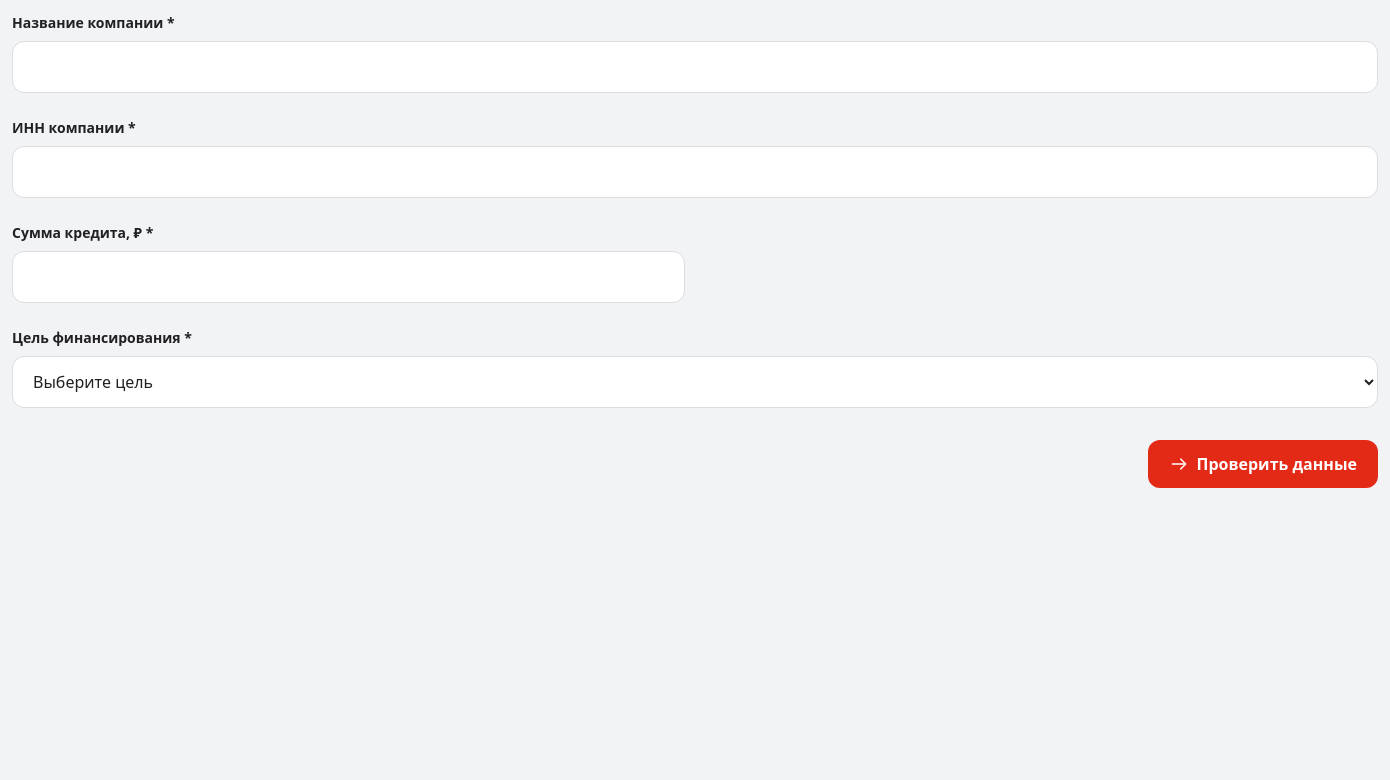
Test: Credit request form › focuses the first invalid field and does not open confirmation
In the field labelled "Название компании": (695, 67) 12,41 -> 1378,93, type "ООО «Маяк»"
In the field labelled "ИНН компании": (695, 172) 12,146 -> 1378,198, type "0000000000"
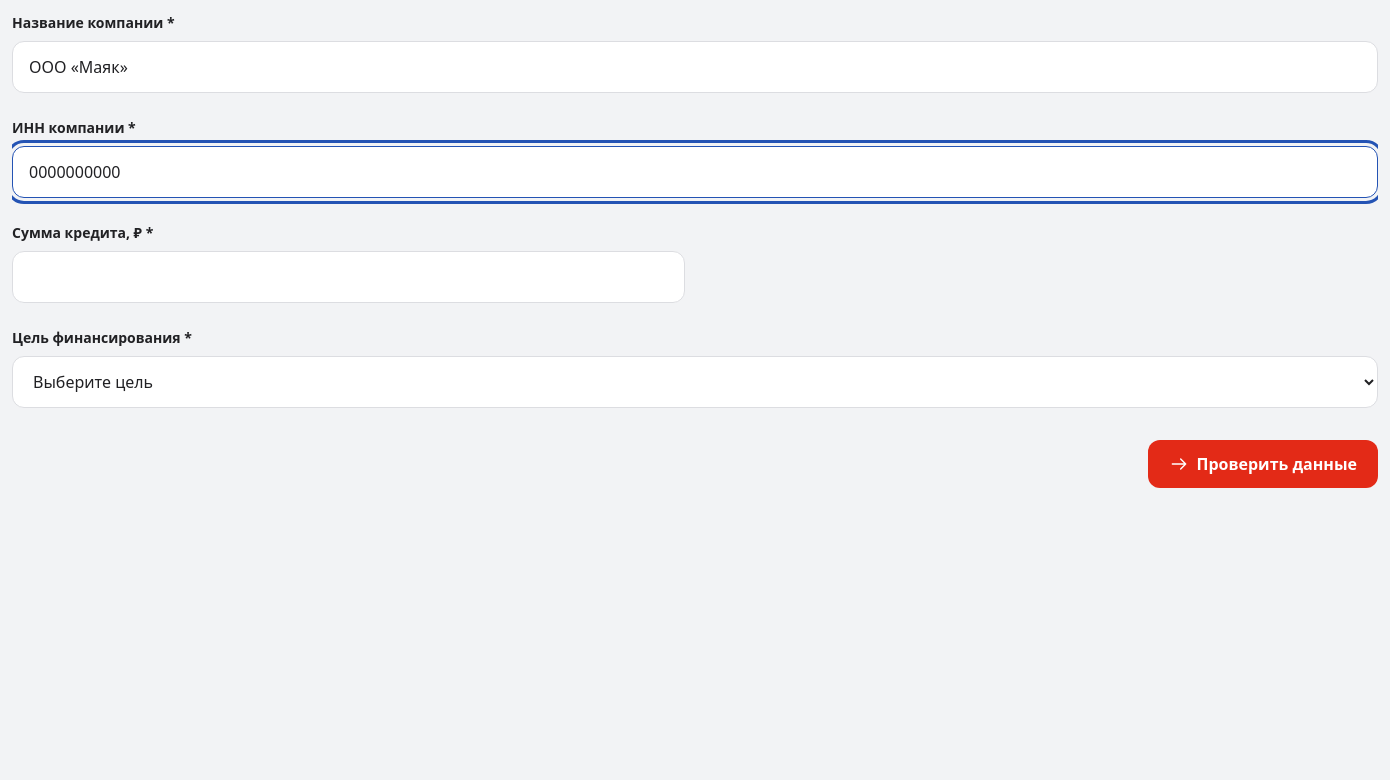
In the field labelled "Сумма кредита, ₽": (348, 277) 12,251 -> 685,303, type "1 500 000"
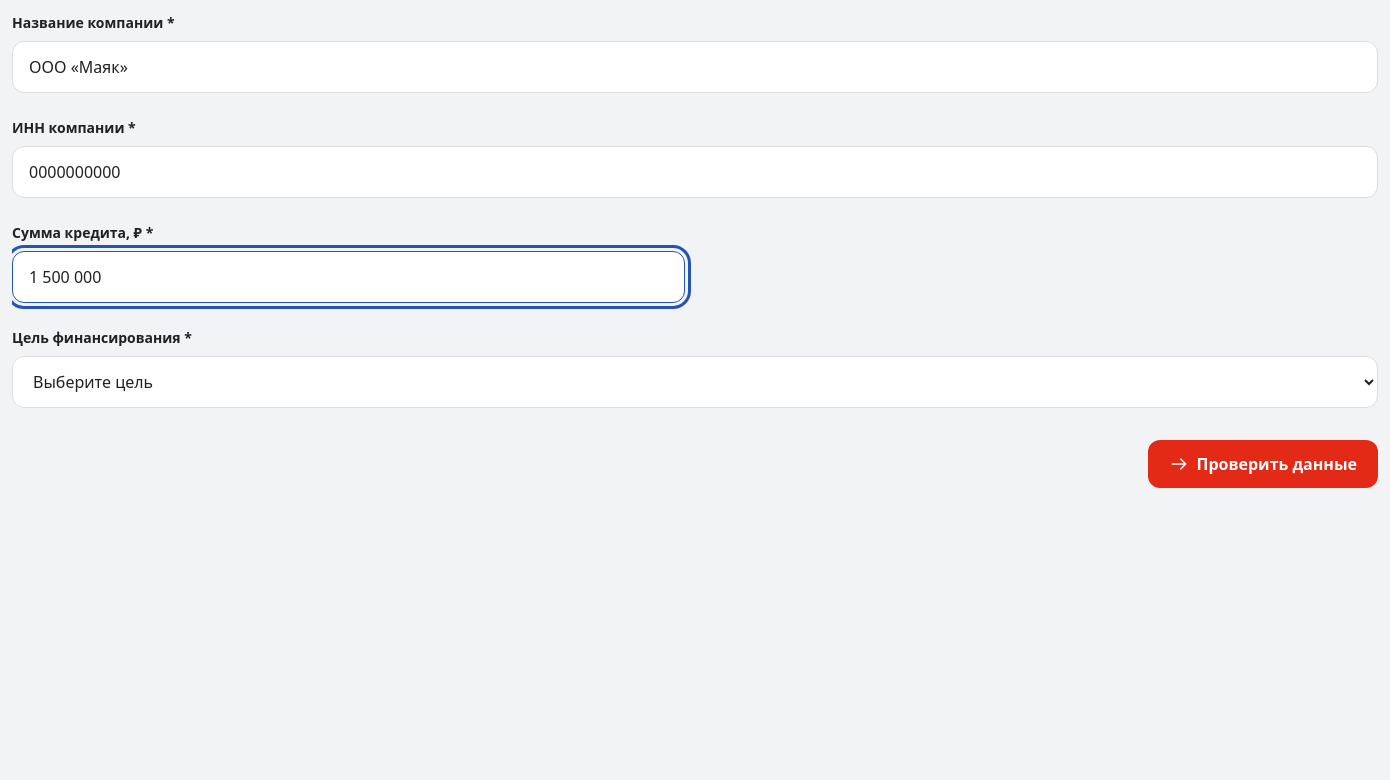
Select "Пополнение оборотных средств" in the dropdown labelled "Цель финансирования": (695, 382) 12,356 -> 1378,408
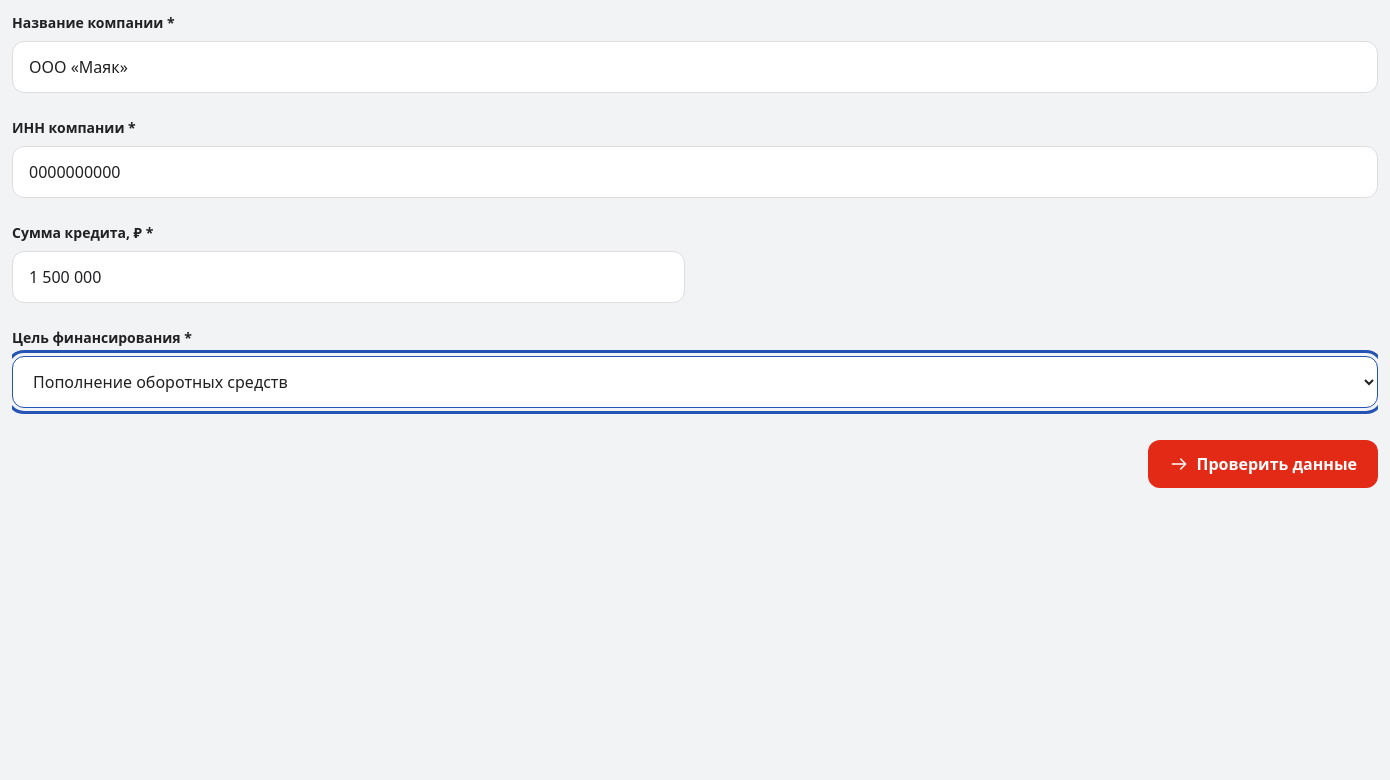
Clear the field labelled "Название компании": (695, 67) 12,41 -> 1378,93
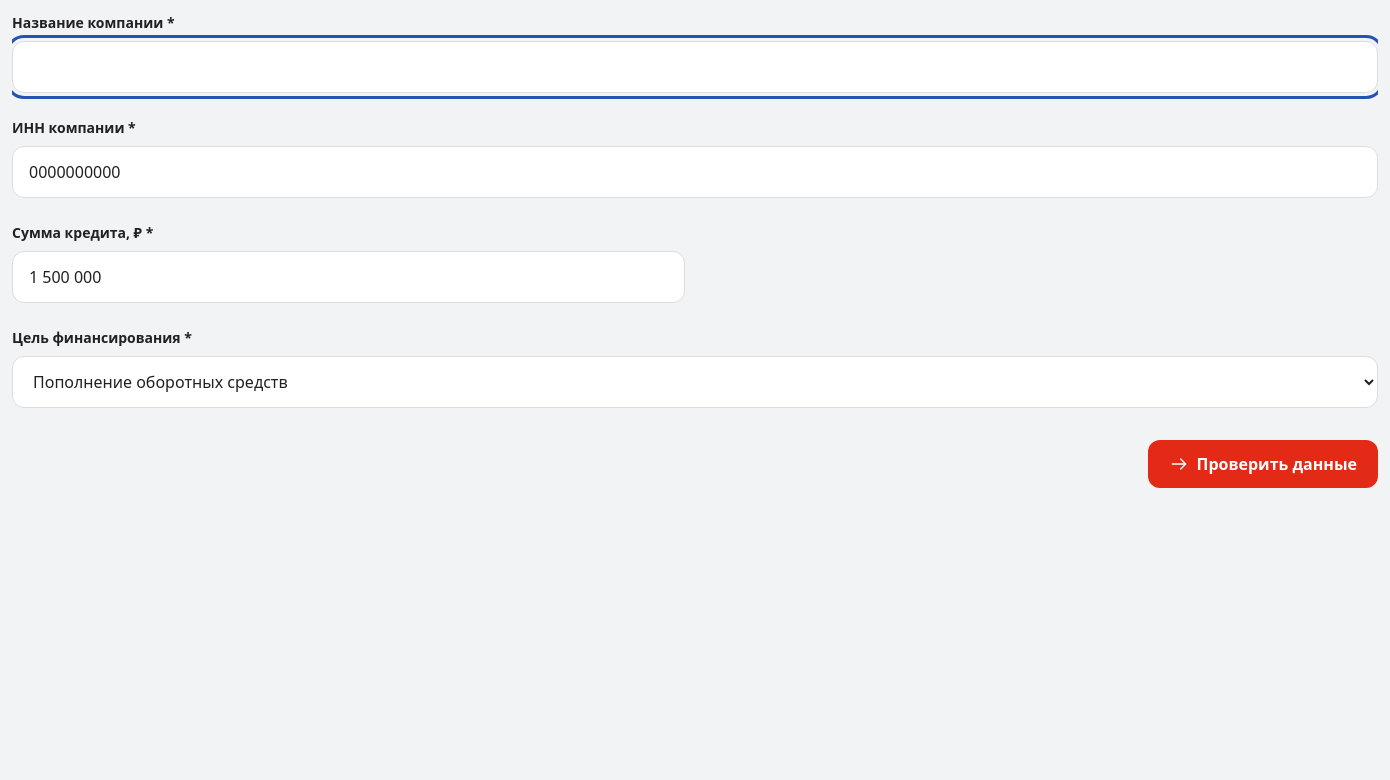
Replace the text in the field labelled "ИНН компании" with "123": (695, 172) 12,146 -> 1378,198
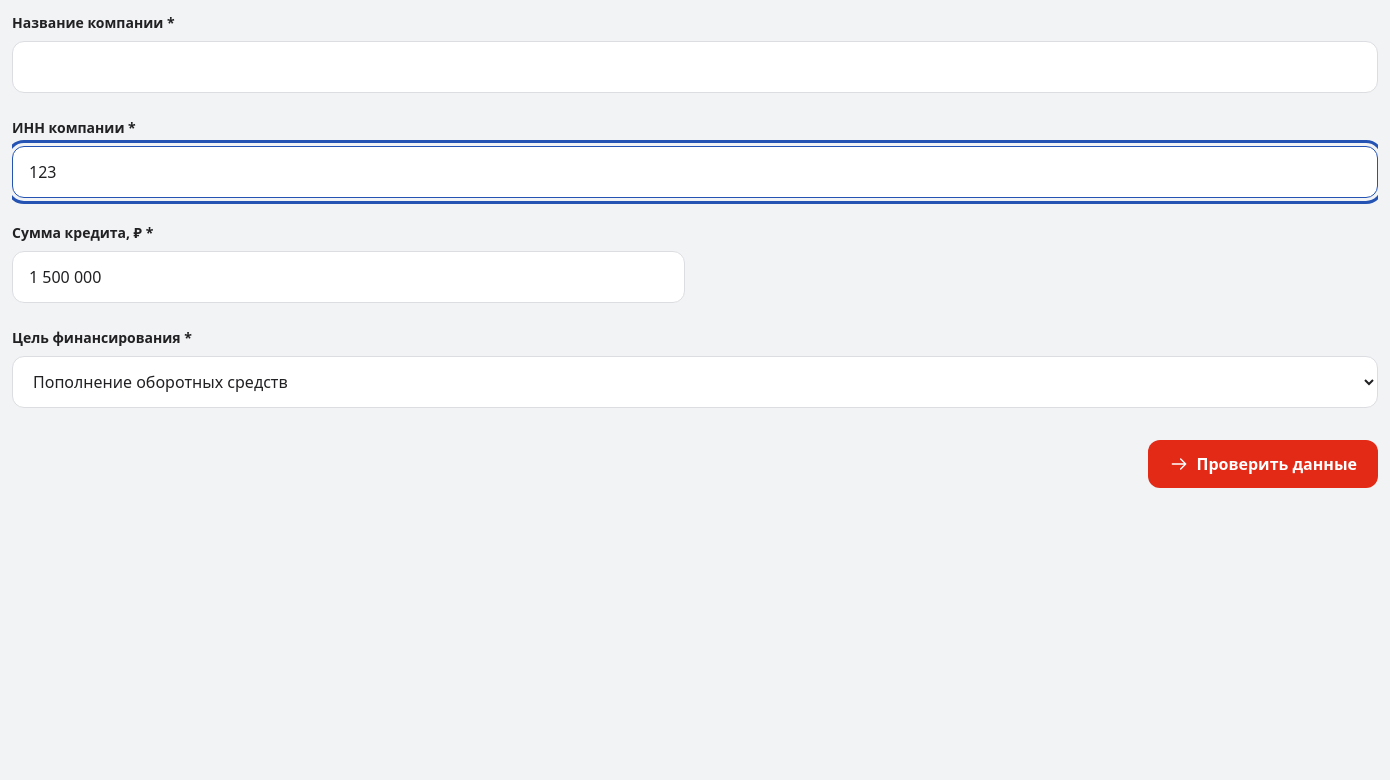
Click the button "Проверить данные": (1263, 464) 1148,440 -> 1378,488
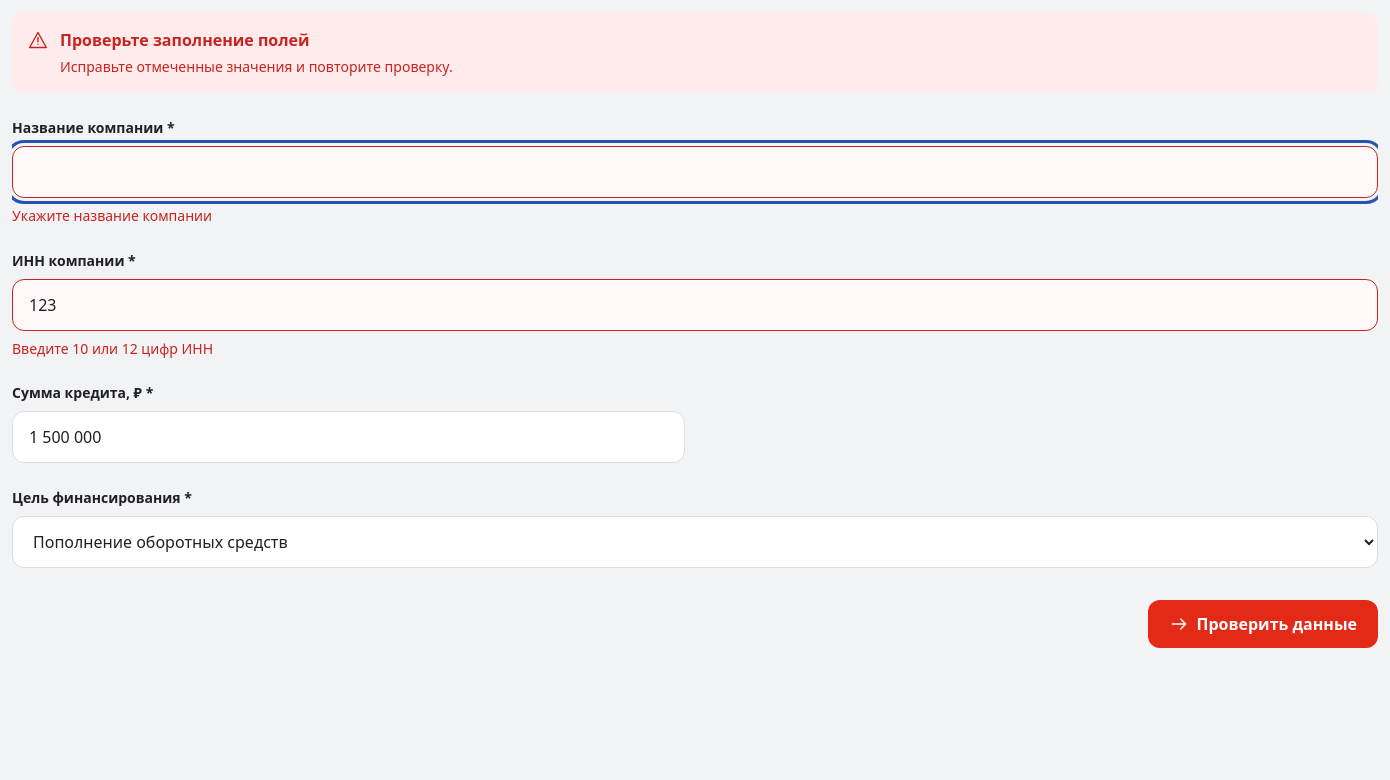
Expected: the message shows "Проверьте заполнение полей", 60,29 -> 310,51
